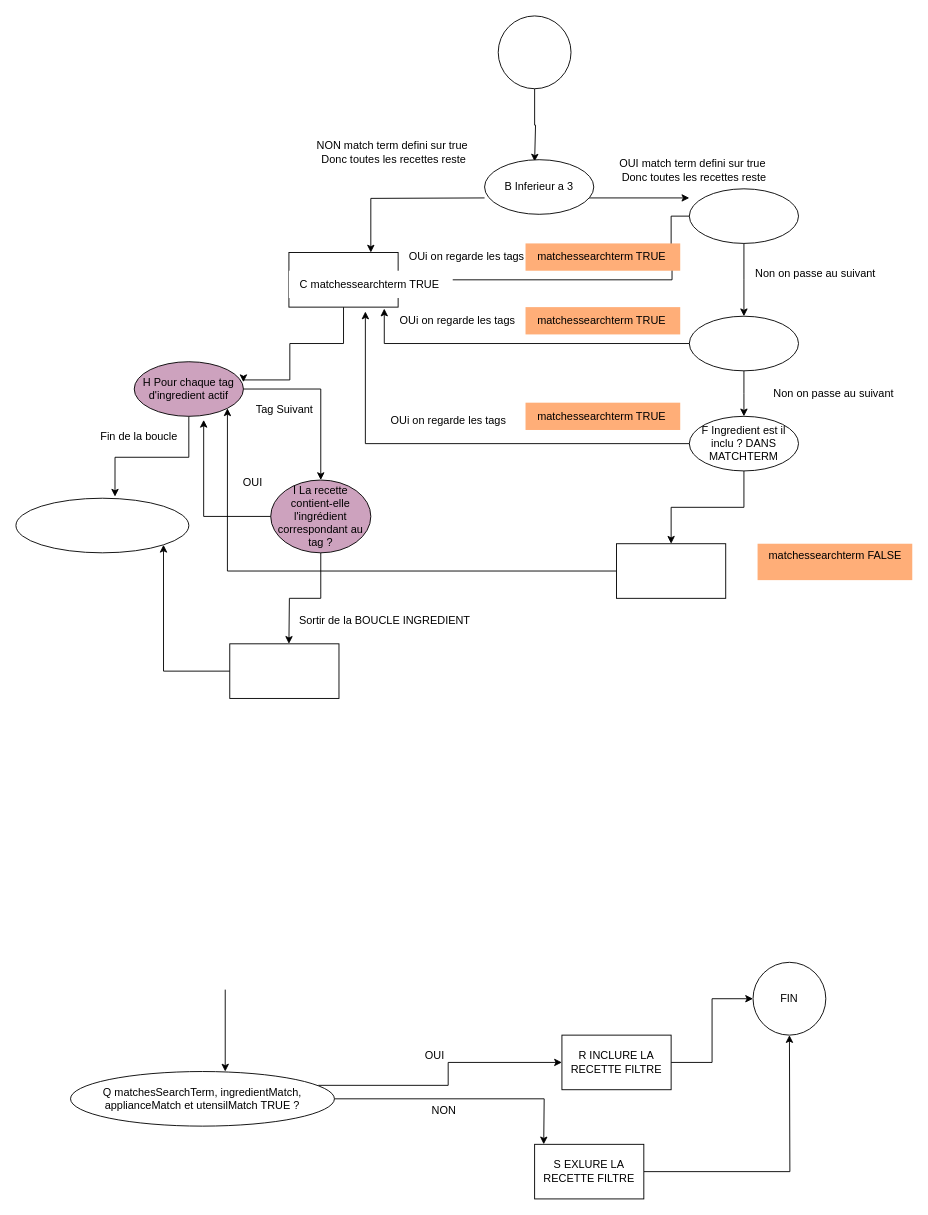
Some shapes in this 928 by 1215 pixel diagram are drawn without their labels. Each missing label, with the box of its shape:
A START: (497, 15, 571, 89)
D NON RECETTE INCLUS: (688, 188, 799, 243)
E Description recette inclus ? DANS MATCHTERMS: (688, 315, 799, 371)
G RECHECHE INFRUTUEUS: (616, 543, 726, 598)
J ingredientMatch = false, sortir de la boucle: (229, 643, 339, 698)
K L'appareil de la recette correspond il à au moins un tag d'appareil actif ?: (15, 497, 189, 553)
